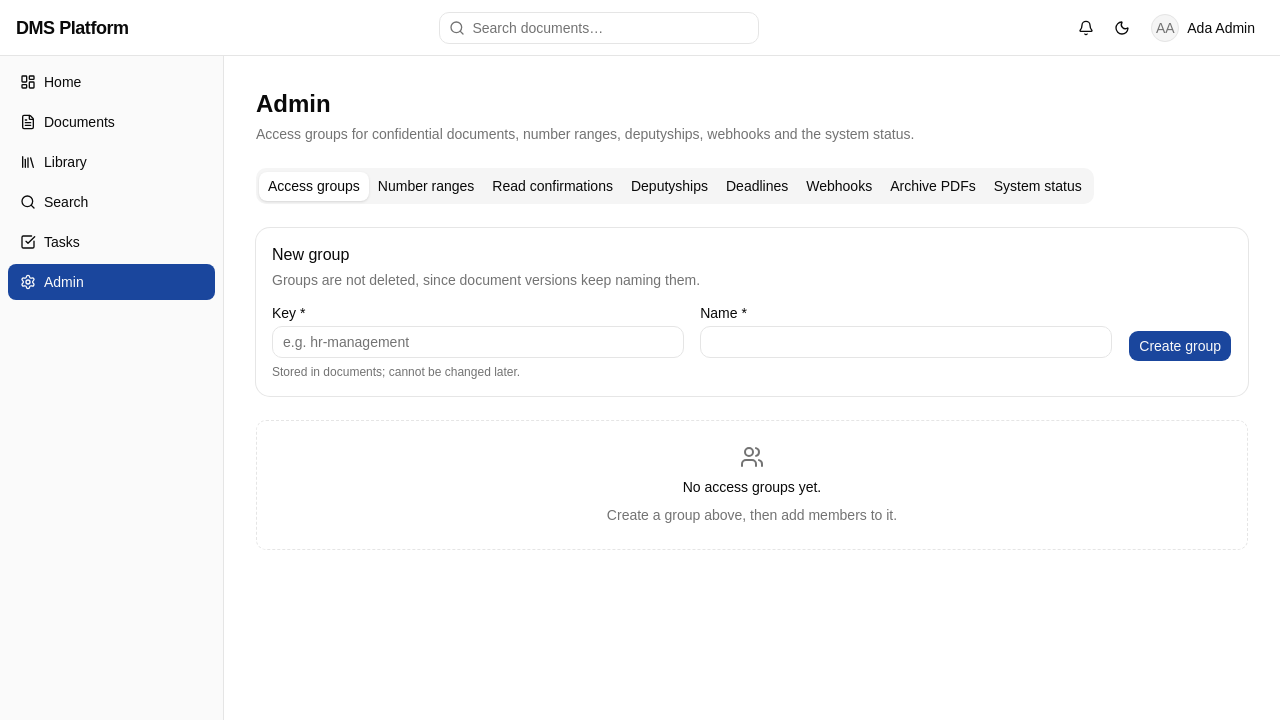
Scenario: admin: number ranges (DMS-113) › checks the key and start value before creating
Click the tab "Number ranges" at x=426, y=186, box [369, 172, 483, 200]
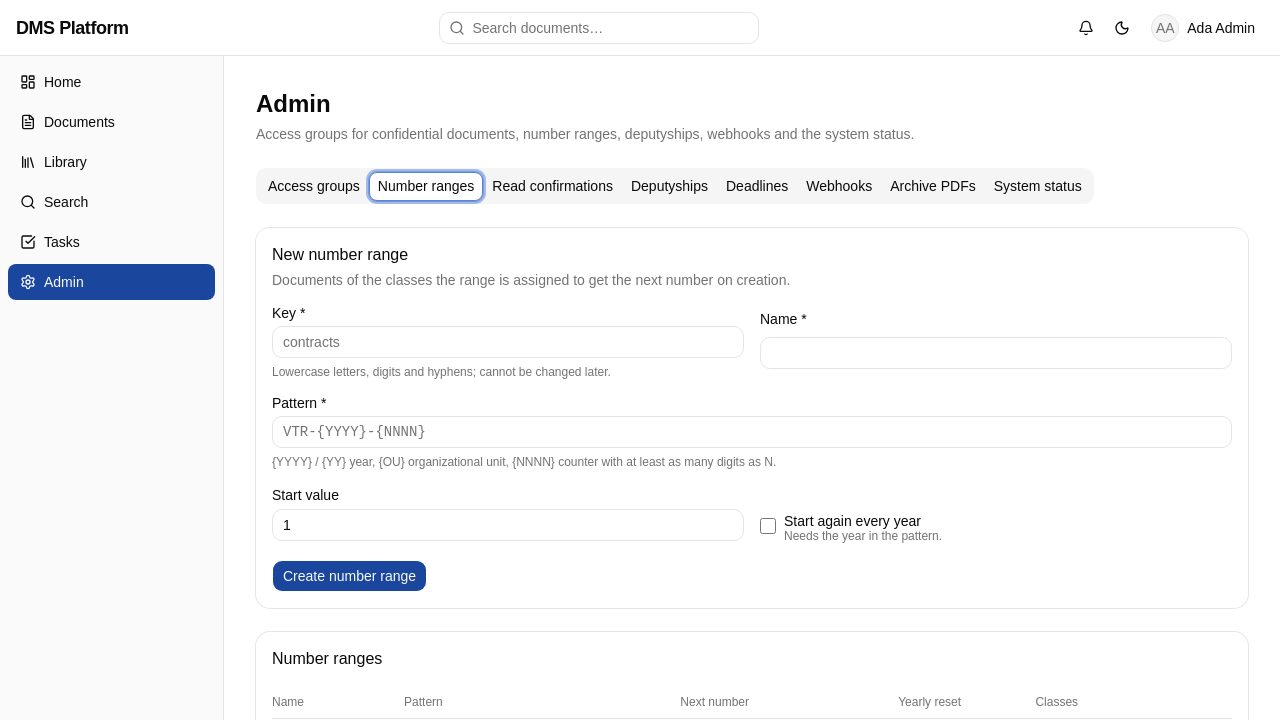
Type "Policies!" into the field labelled "Key *" at x=508, y=342, box [272, 326, 744, 358]
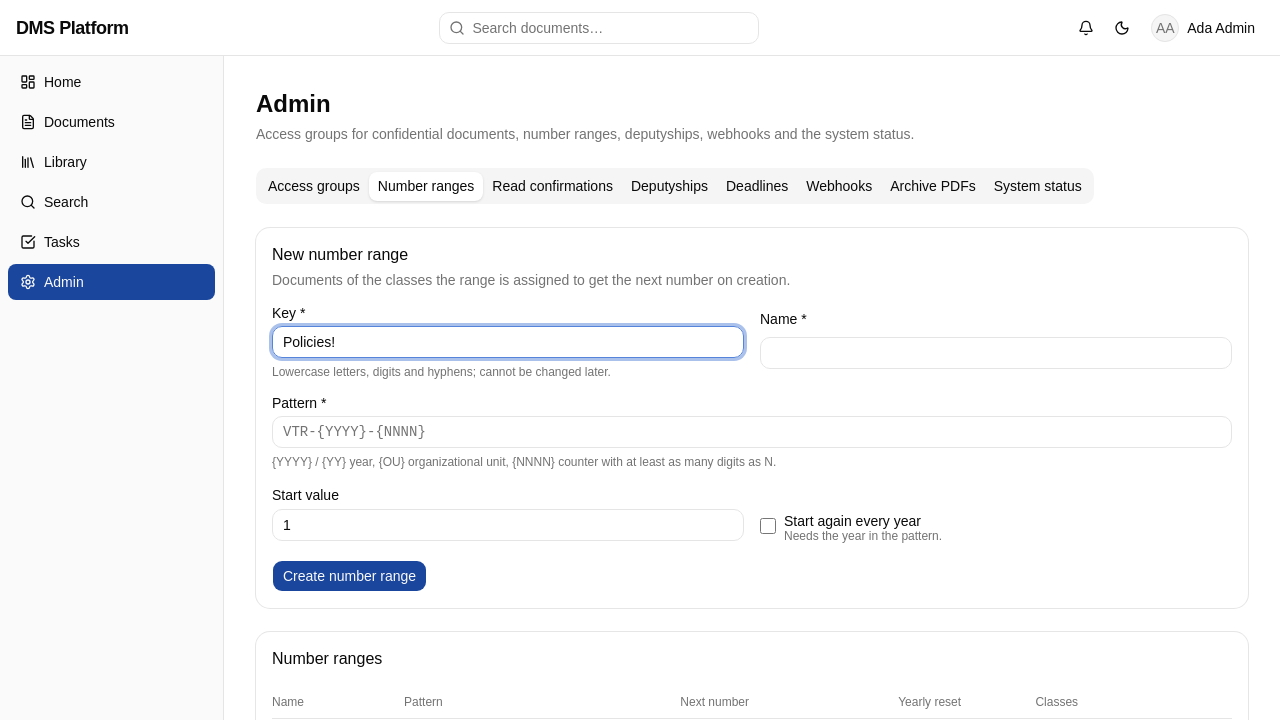
Type "Policies" into the field labelled "Name *" at x=996, y=353, box [760, 337, 1232, 369]
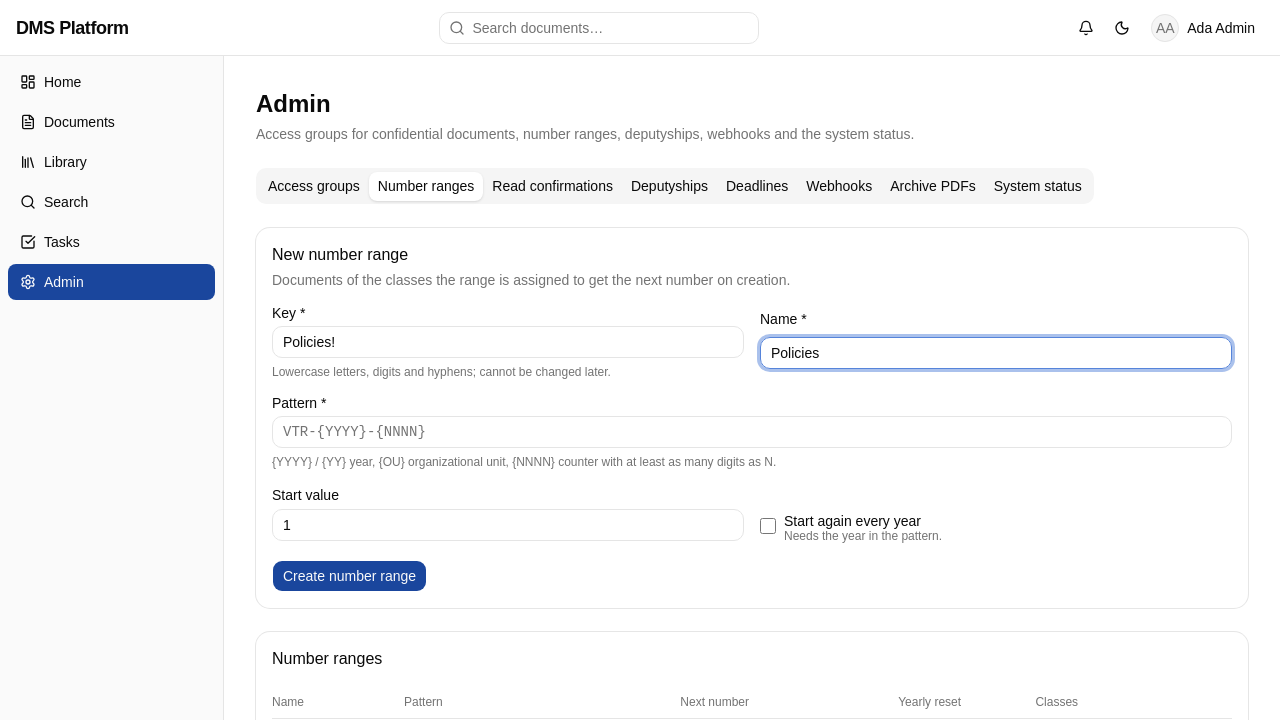
Replace the text in the field labelled "Start value" with "-3" at x=508, y=525, box [272, 509, 744, 541]
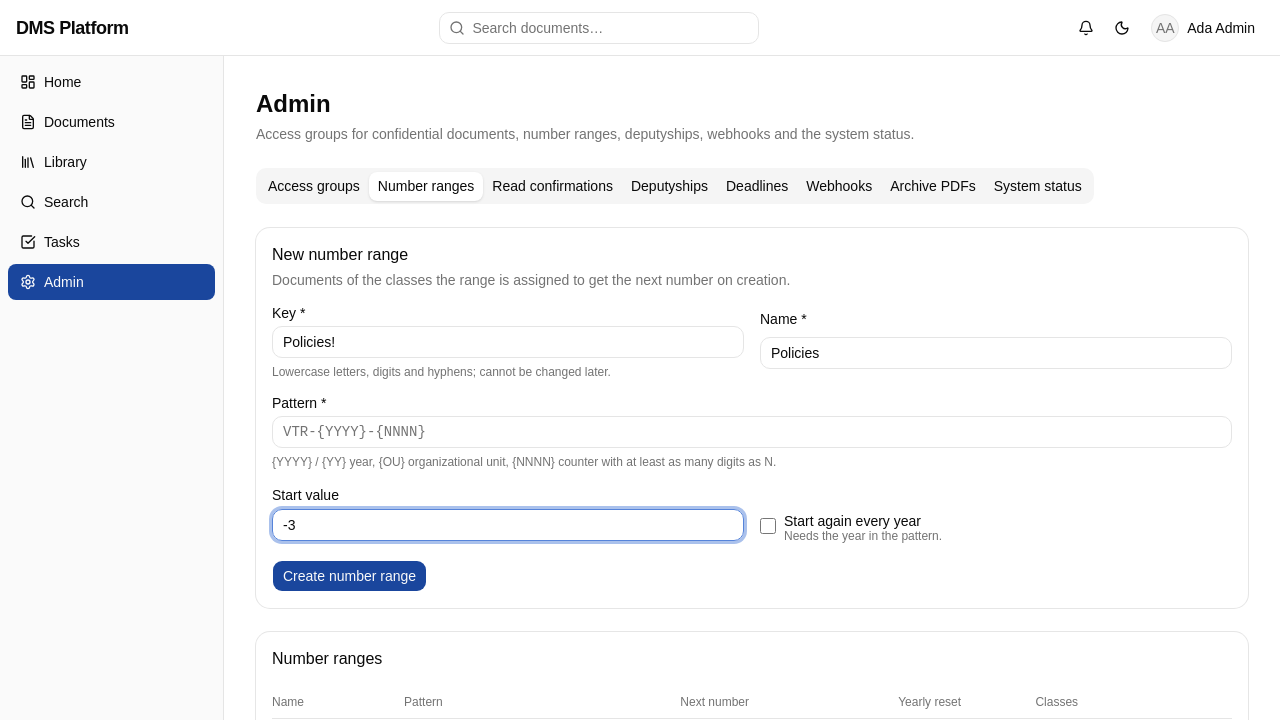
Click the button "Create number range" at x=350, y=576, box [272, 560, 427, 592]
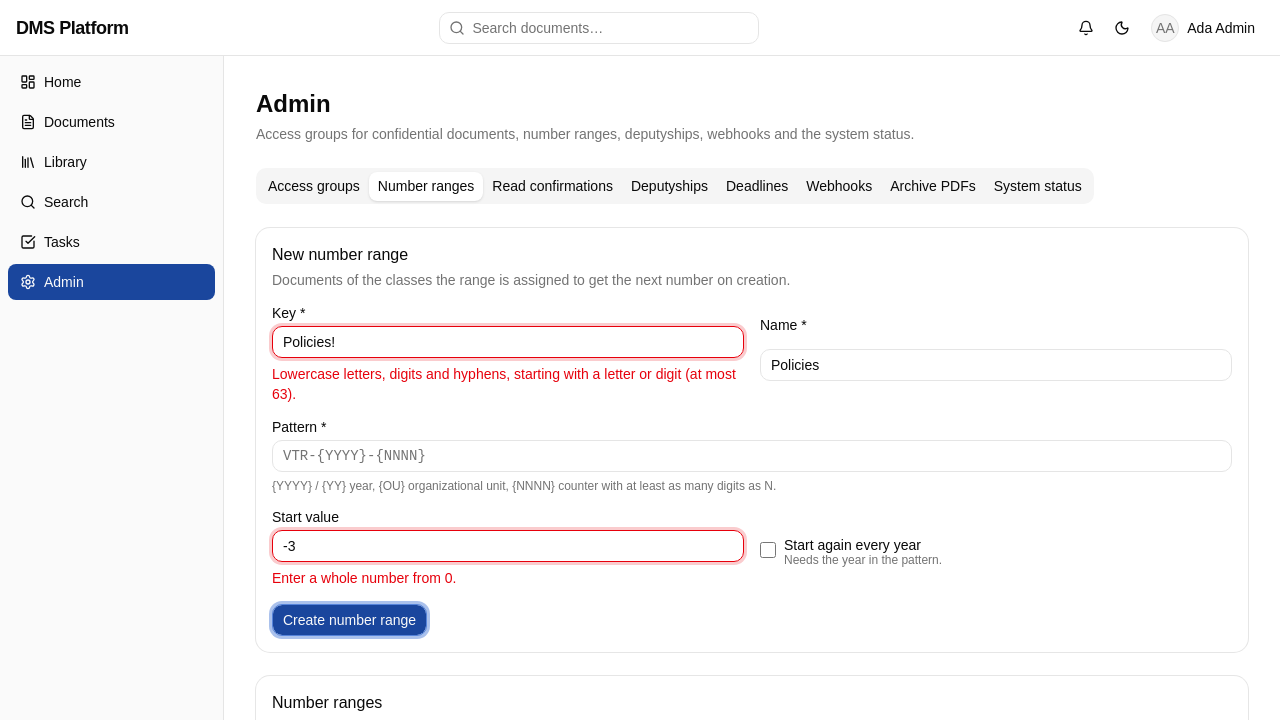
Expected: the text "Enter a whole number from 0." is shown, [272, 570, 456, 586]
